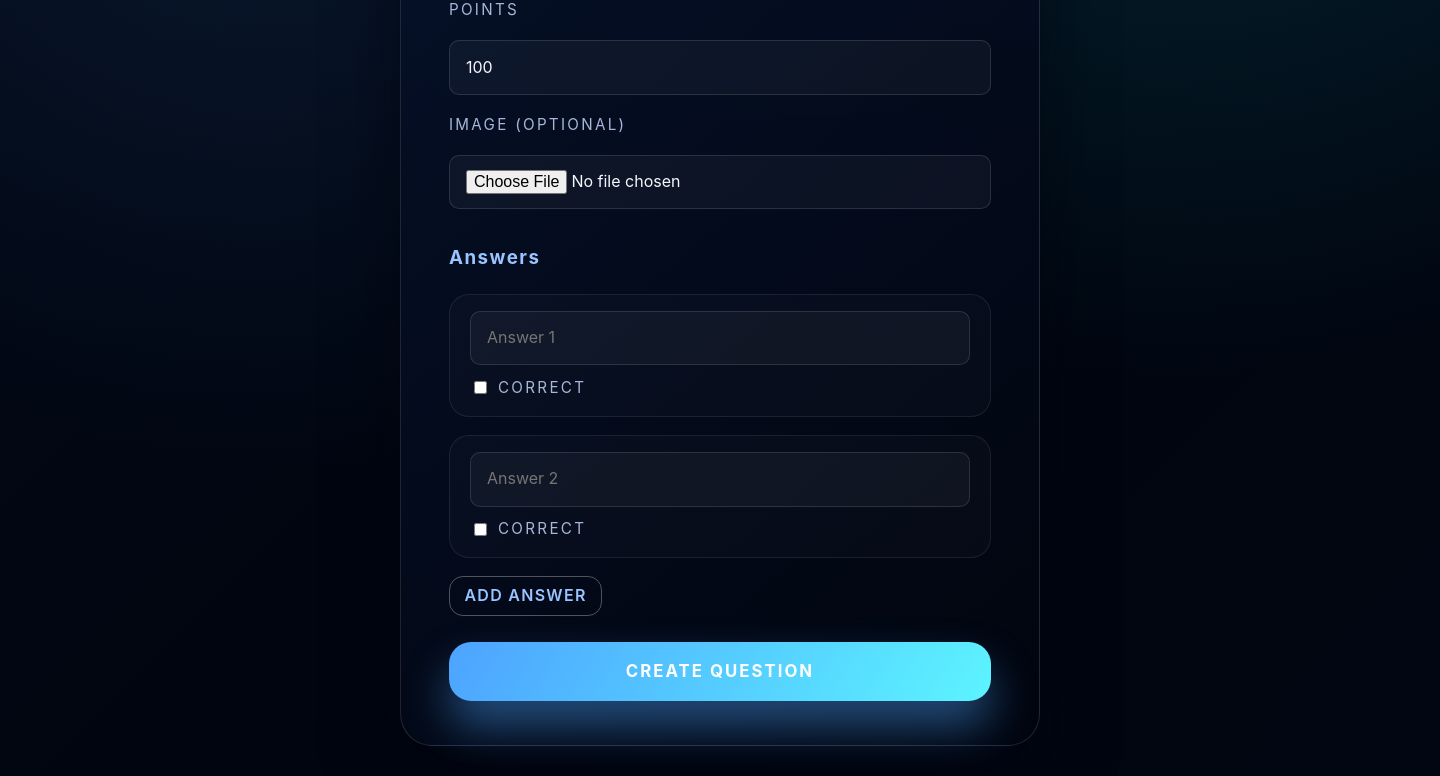
Test: CreateQuestions Component › does not allow adding more than 4 answers
The image size is (1440, 776).
(page scrolled)
Click the button "Add Answer" at (526, 596), box top-left (449, 576), bottom-right (602, 616)
(page scrolled)
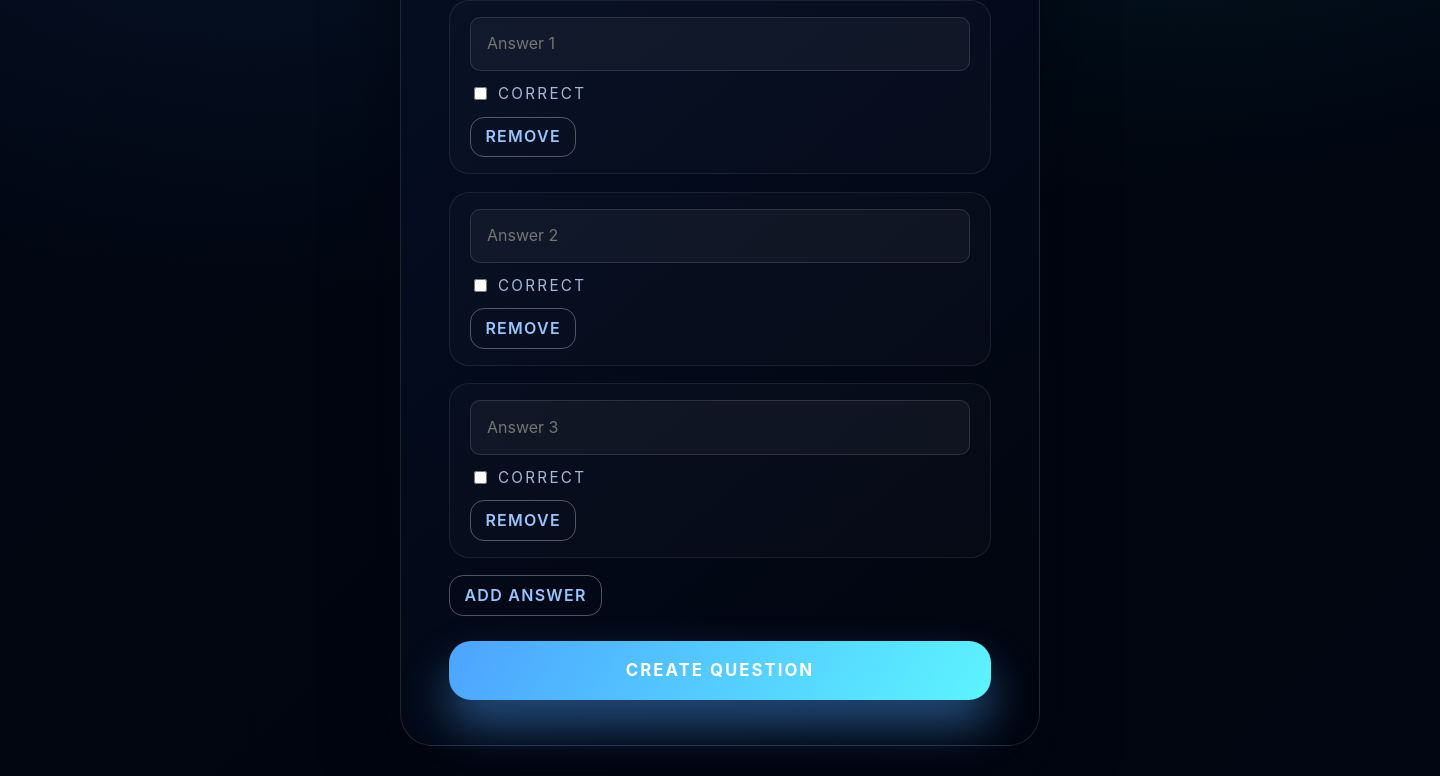
Click the button "Add Answer" at (526, 595), box top-left (449, 575), bottom-right (602, 616)
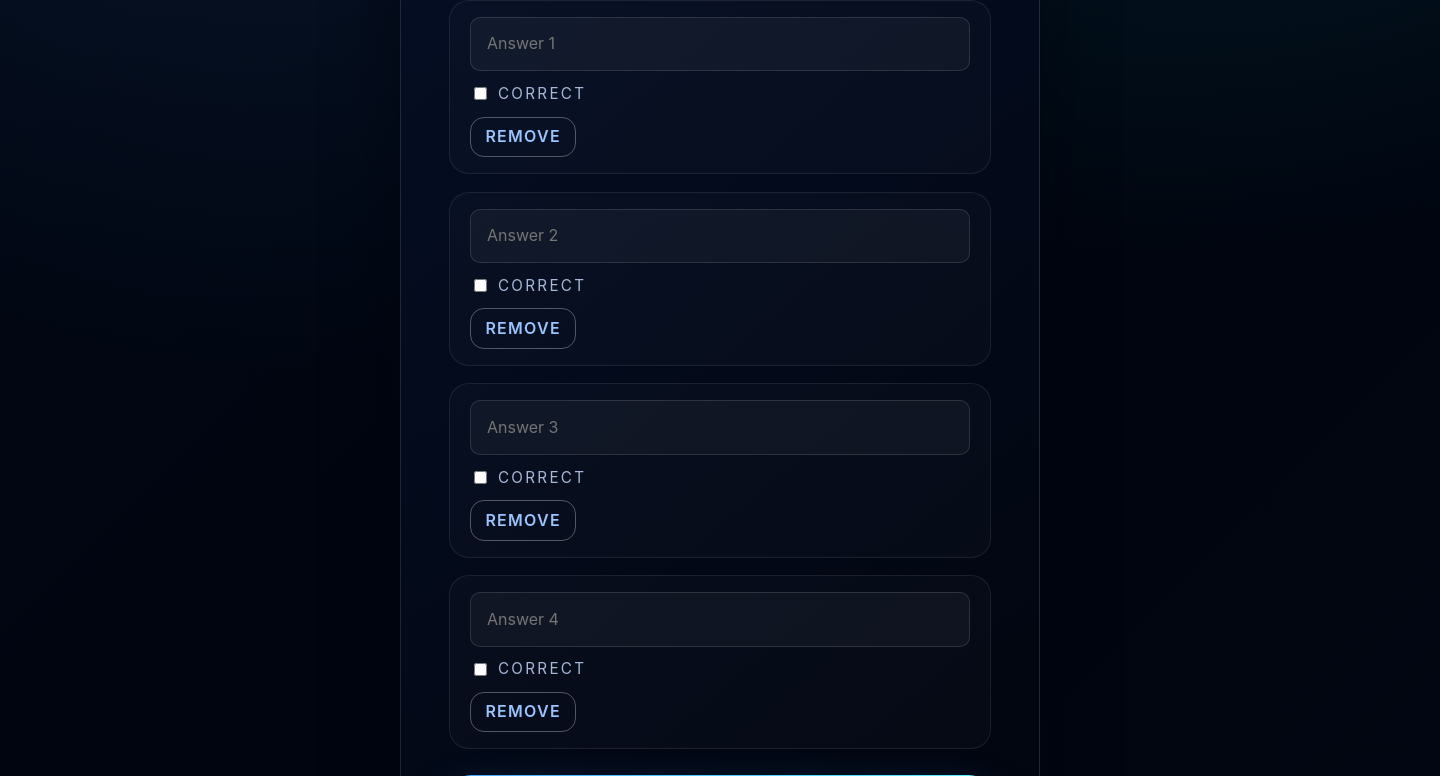
Now the button "Add Answer" is gone
